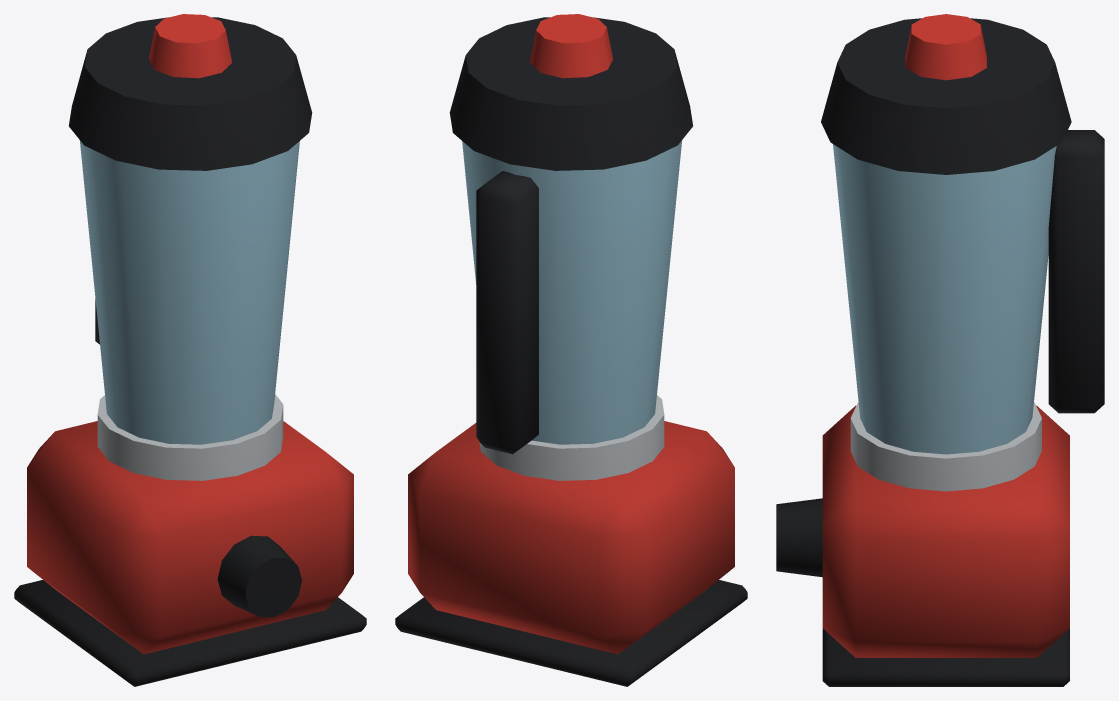
Rendered from Blender_01.glb.
3 renders of one model, left to right at view 1: azimuth 30°, elevation 25°; view 2: azimuth 150°, elevation 25°; view 3: azimuth 270°, elevation 25°, orthographic. The views are drawn at different scales.
Parts seen in each view (by area): view 1: SM_Blender_01; view 2: SM_Blender_01; view 3: SM_Blender_01.
Part boxes in pixels (box(x1,y1,x2,y2)): SM_Blender_01: box(14, 14, 366, 686); SM_Blender_01: box(395, 14, 747, 686); SM_Blender_01: box(776, 14, 1104, 686).
Bounding box in the file's own units: 0.17 × 0.402 × 0.199.
Materials: 1 (1 with a texture image).
